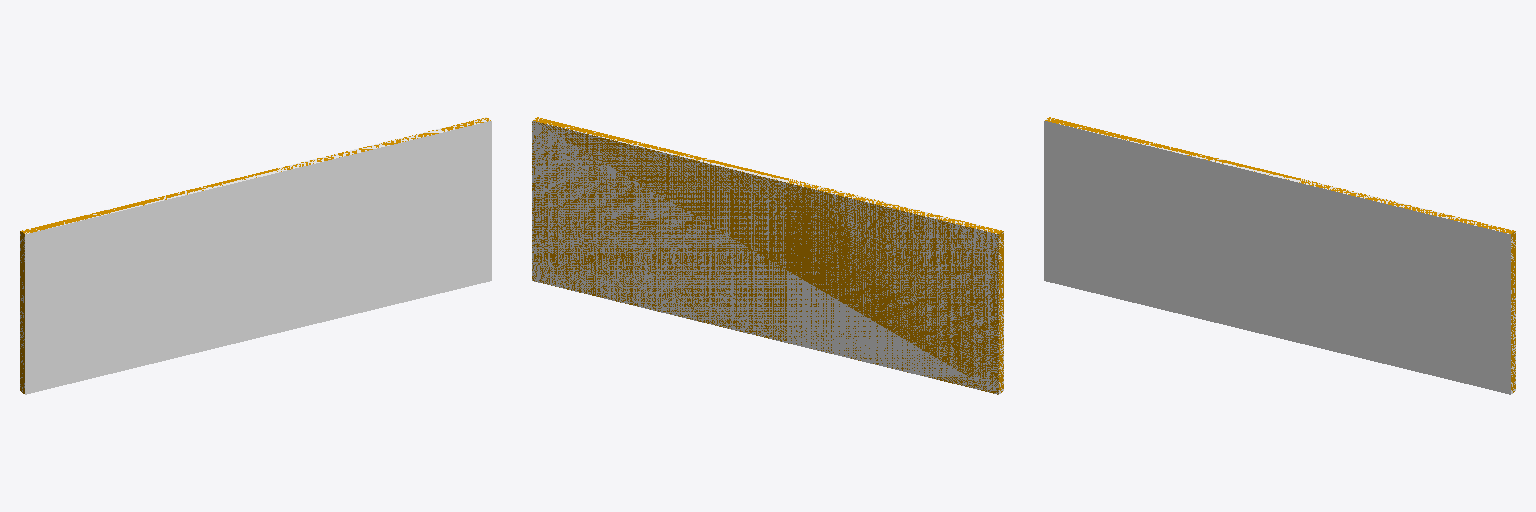
The robot description file, URDF, robot "my_object":
<?xml version="1.0" ?> 
<robot name="my_object" static="true">
  <link name="base_link">
  <inertial>
    <mass value="1.0" />
    <origin xyz="0 0 0.0" />
    <inertia ixx="1.0" ixy="0.0" ixz="0.0" iyy="1.0" iyz="0.0" izz="1.0"/>
  </inertial>
  <visual>
   <origin xyz="0 0 0.0" rpy="0 0 1.570796327" />
   <geometry>
     <mesh filename="package://cob_gazebo_objects/Media/models/bedroom_picture.dae"/>
   </geometry>
  </visual>
  <collision>
   <origin xyz="0 0 0" rpy="0 0 0" />
   <geometry>
     <box size="1.216 0.02 0.40" />
   </geometry>
  </collision>     
  </link>


<gazebo>
	<static>true</static>
</gazebo>
</robot>

--- What the picture shows (computed from the rendered views, not written in the file) ---
3 views of the same robot in one strip: view 1: azimuth 30°, elevation 25°; view 2: azimuth 150°, elevation 25°; view 3: azimuth 330°, elevation 25° (orthographic).
Model my_object with 1 links and 0 joints (none), rooted at base_link, posed every joint at zero.
Links seen in each view (by area): view 1: base_link; view 2: base_link; view 3: base_link.
Boxes of the visible links, box(x1,y1,x2,y2) form: base_link: box(20, 117, 491, 394); base_link: box(532, 117, 1003, 394); base_link: box(1044, 117, 1515, 394).
Bounding box of the posed robot: 0.0309 × 0.0005 × 0.0101 m (x, y, z).
1 mesh visuals loaded from 1 distinct referenced files (1 Collada DAE).